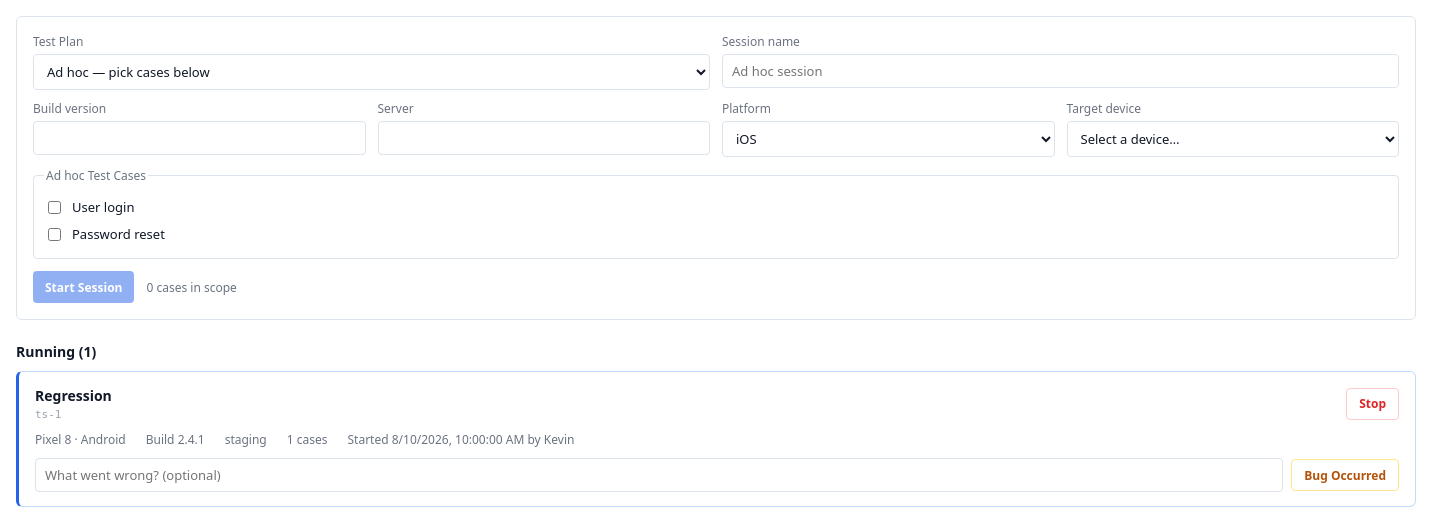
Test: cancelling the prompt leaves the session running and unjudged
Click the button "Stop". click: (1373, 404)
box: [1346, 388, 1399, 420]
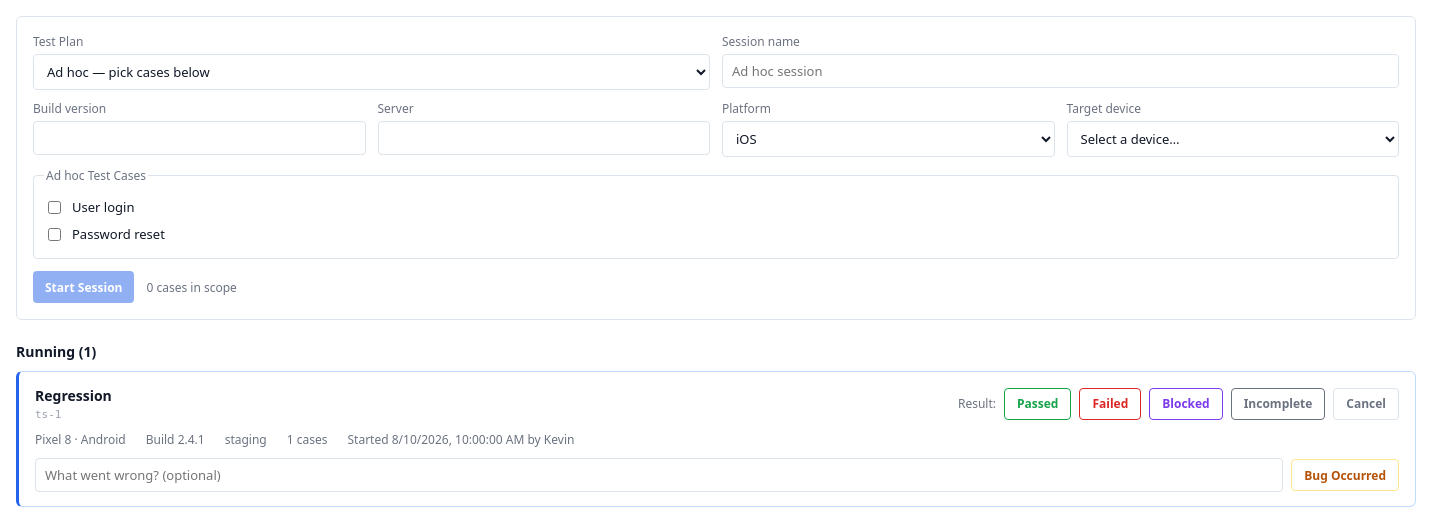
Click the button "Cancel". click: (1366, 404)
box: [1333, 388, 1399, 420]
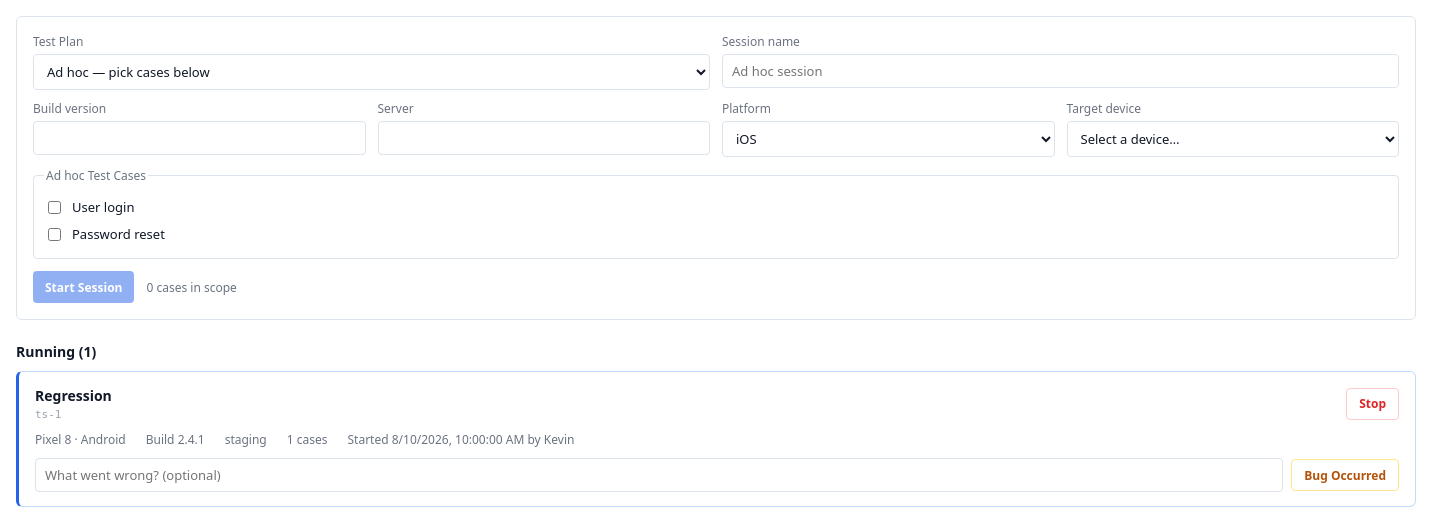
Expected: the button "Stop" is shown, [1346, 388, 1399, 420]
